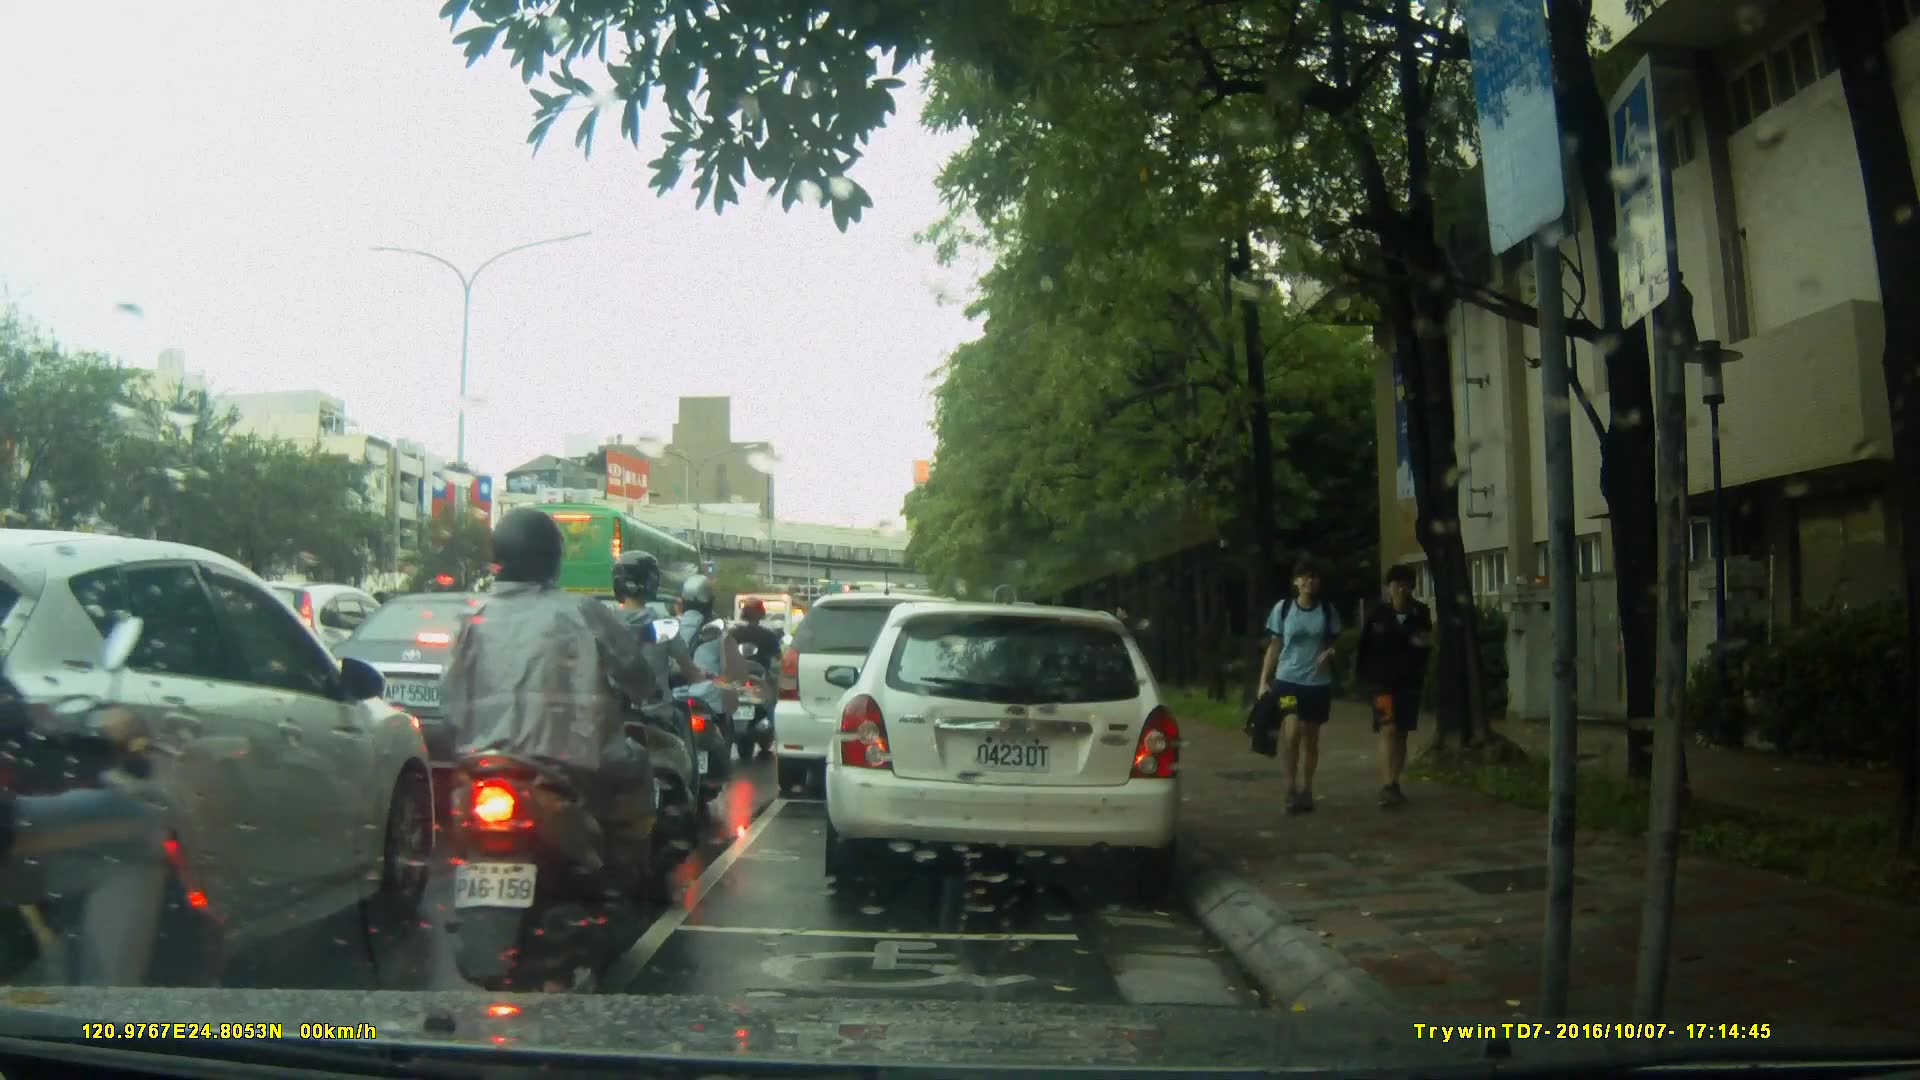pedestrian: (1236, 558, 1348, 820), (1359, 566, 1442, 809), (1111, 598, 1135, 676)
rider: (1, 372, 225, 1080), (438, 511, 679, 989), (579, 553, 711, 878), (658, 574, 741, 804), (725, 598, 790, 765)
vehicle: (1, 528, 450, 988), (831, 592, 1196, 897), (316, 590, 627, 796), (770, 591, 999, 803), (495, 500, 707, 636)
